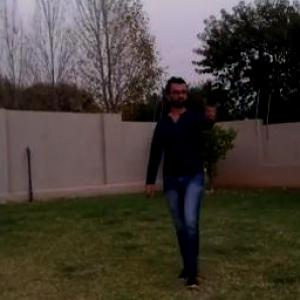takeoff-hand: (199, 92, 226, 129)
